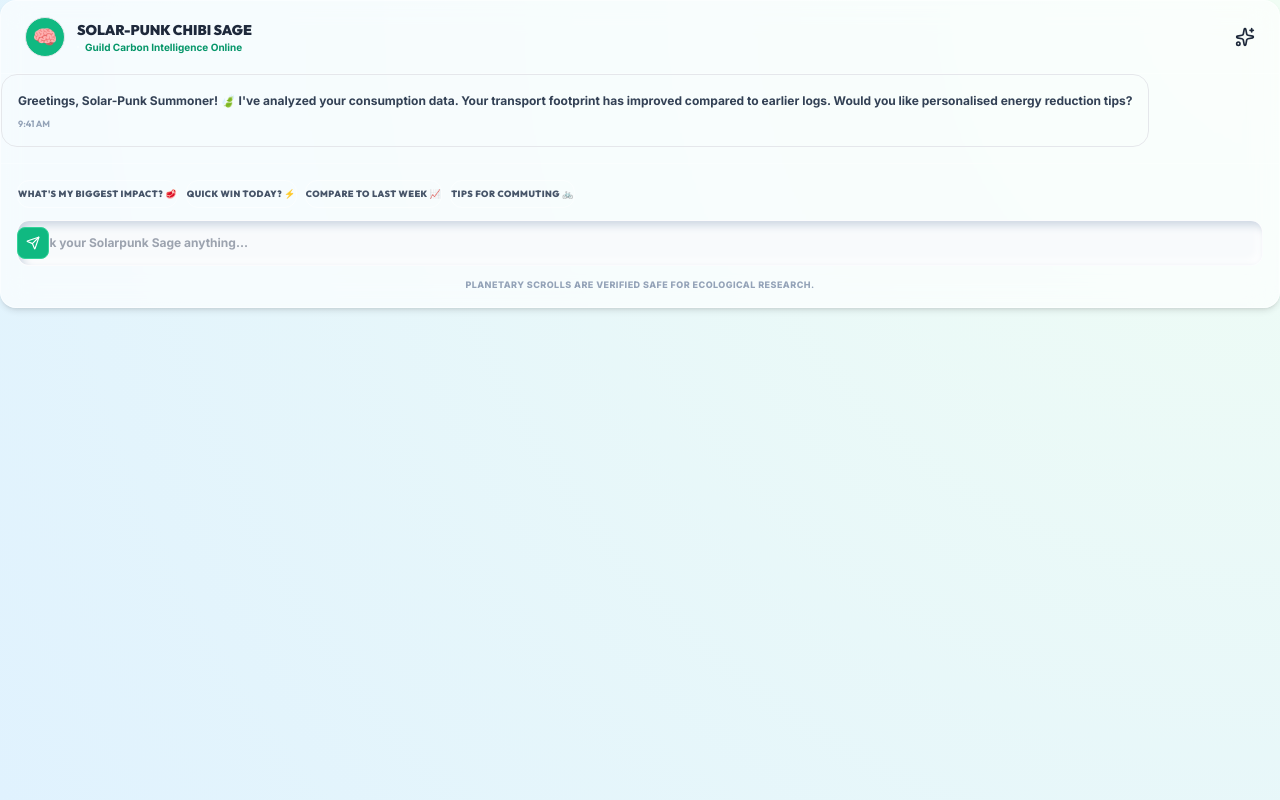
Test: AiInsights › Sending messages › shows the loading indicator while awaiting AI response
Type "Question" into the field with placeholder "Ask your Solarpunk Sage anything…" at [640, 242], box [17,220,1263,266]
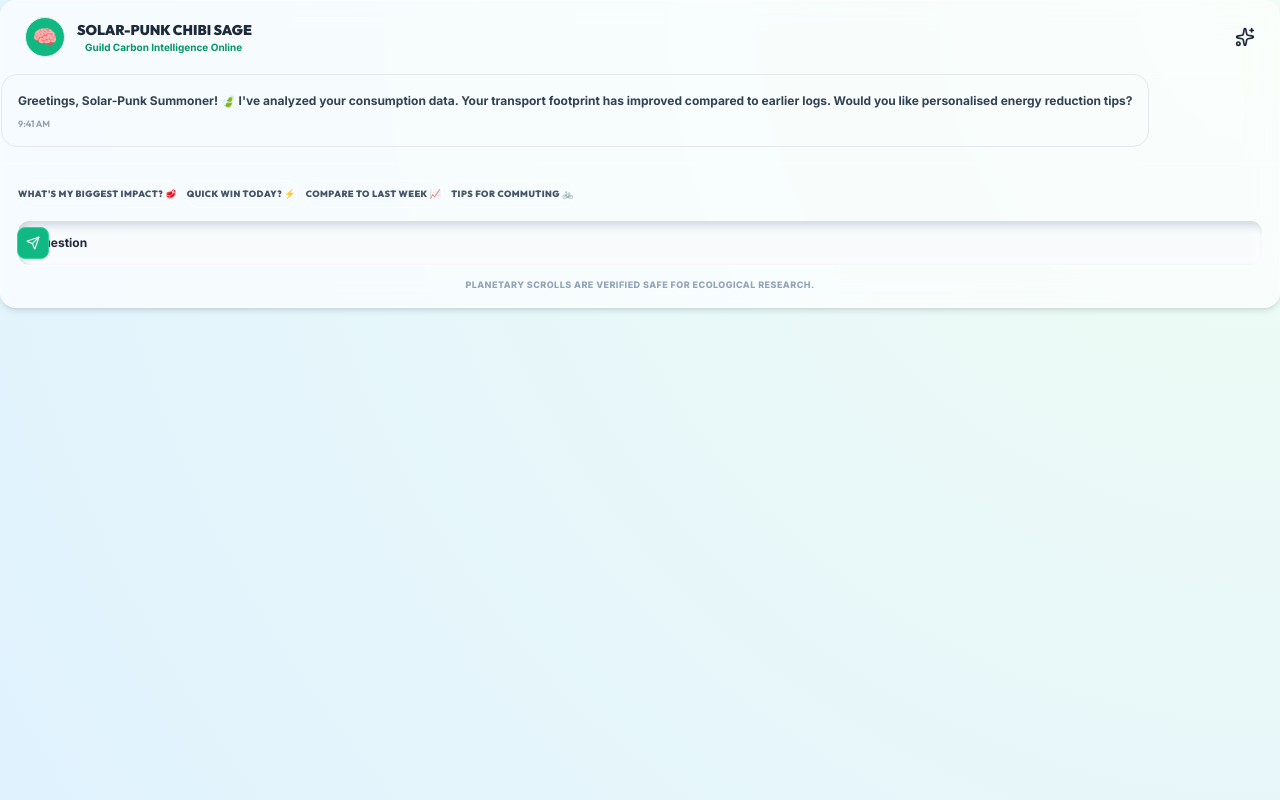
Click the button named "Send message to Sage" at [33, 242], box [17,226,49,258]
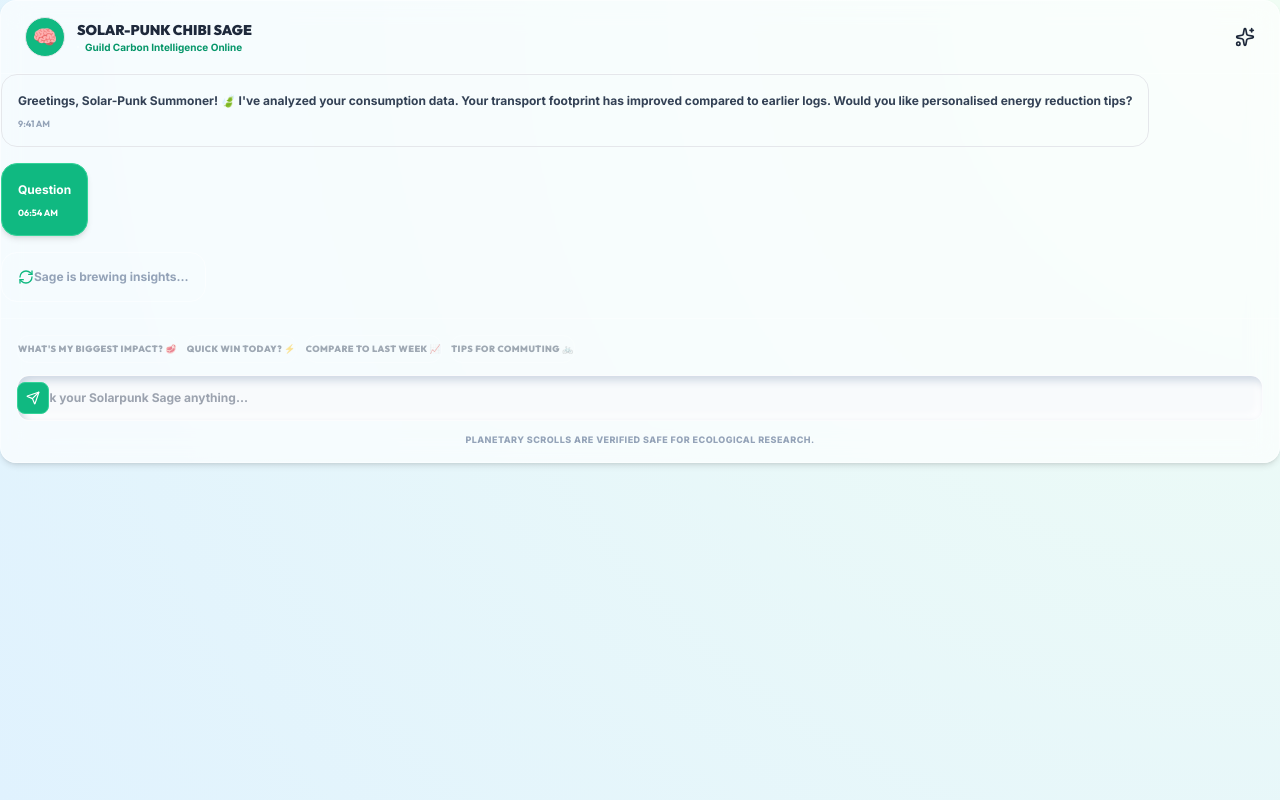
Check: the text "Sage is brewing insights…" is shown, box [34,269,188,285]
